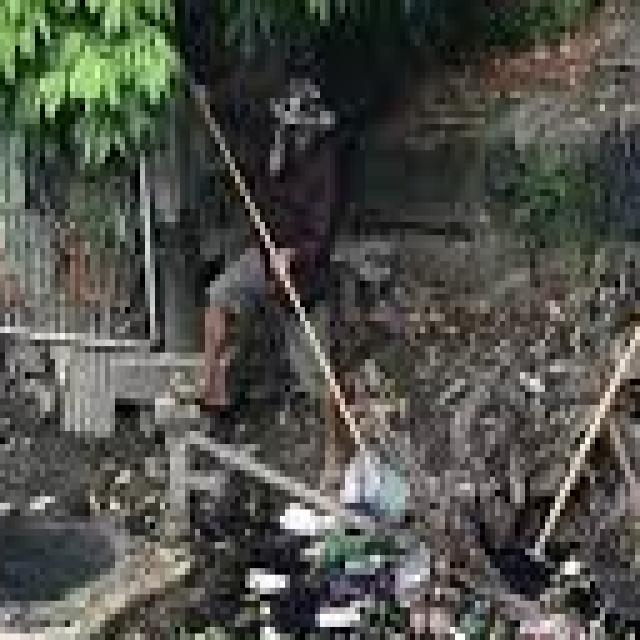-: (355, 281, 640, 640)
